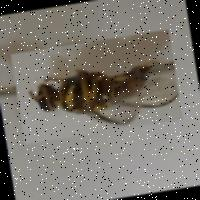Oriental-fruit-fly: (10, 29, 182, 144)
